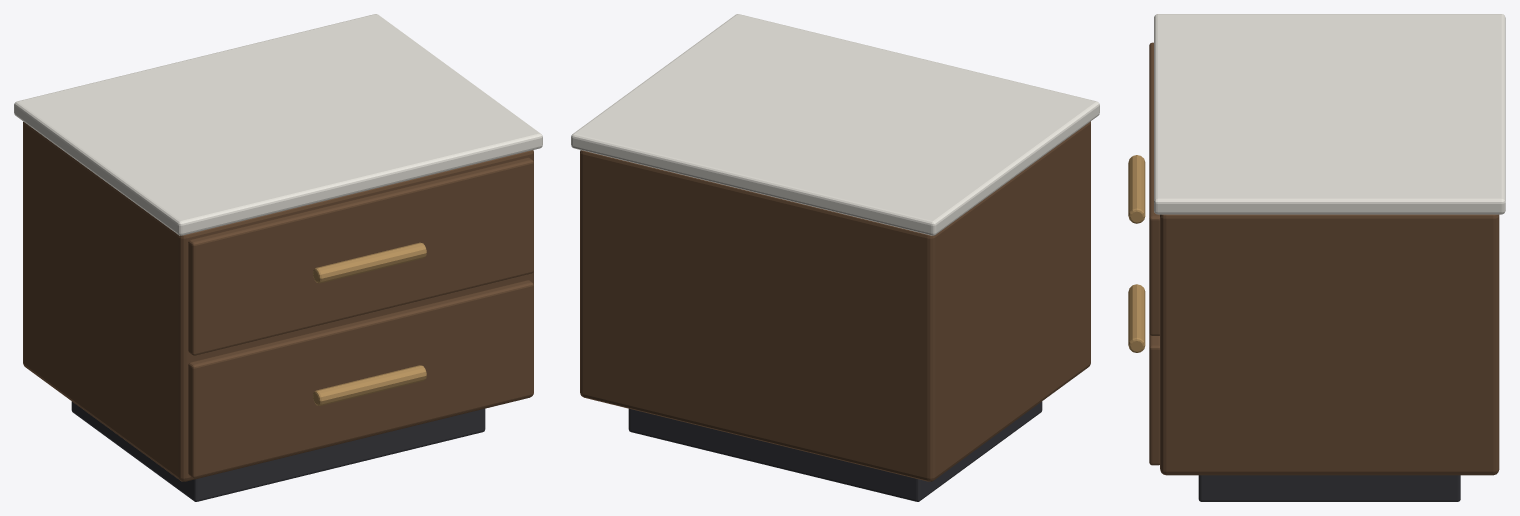
The model's file is nightstand.glb.
3 renders of one model, left to right at view 1: azimuth 30°, elevation 25°; view 2: azimuth 150°, elevation 25°; view 3: azimuth 270°, elevation 25°, orthographic. The views are drawn at different scales.
Parts seen in each view (by area): view 1: night_top, night_body, night_front_1, night_front_0, night_plinth, night_pull_0, night_pull_1; view 2: night_body, night_top, night_plinth; view 3: night_body, night_top, night_plinth, night_front_1, night_front_0, night_pull_1, night_pull_0.
Part boxes in pixels (x1,y1,x2,y2): night_top: [14, 14, 542, 235]; night_body: [23, 121, 533, 481]; night_front_1: [188, 157, 533, 355]; night_front_0: [188, 280, 533, 478]; night_plinth: [71, 401, 485, 501]; night_pull_0: [313, 365, 426, 405]; night_pull_1: [313, 242, 426, 283]; night_body: [580, 121, 1090, 481]; night_top: [571, 14, 1099, 235]; night_plinth: [628, 401, 1042, 501]; night_body: [1160, 214, 1499, 475]; night_top: [1154, 14, 1505, 214]; night_plinth: [1198, 475, 1460, 501]; night_front_1: [1149, 42, 1159, 335]; night_front_0: [1149, 334, 1159, 465]; night_pull_1: [1128, 155, 1145, 223]; night_pull_0: [1128, 284, 1145, 352].
Size of the model in its own units: 0.576 by 0.46 by 0.489.
